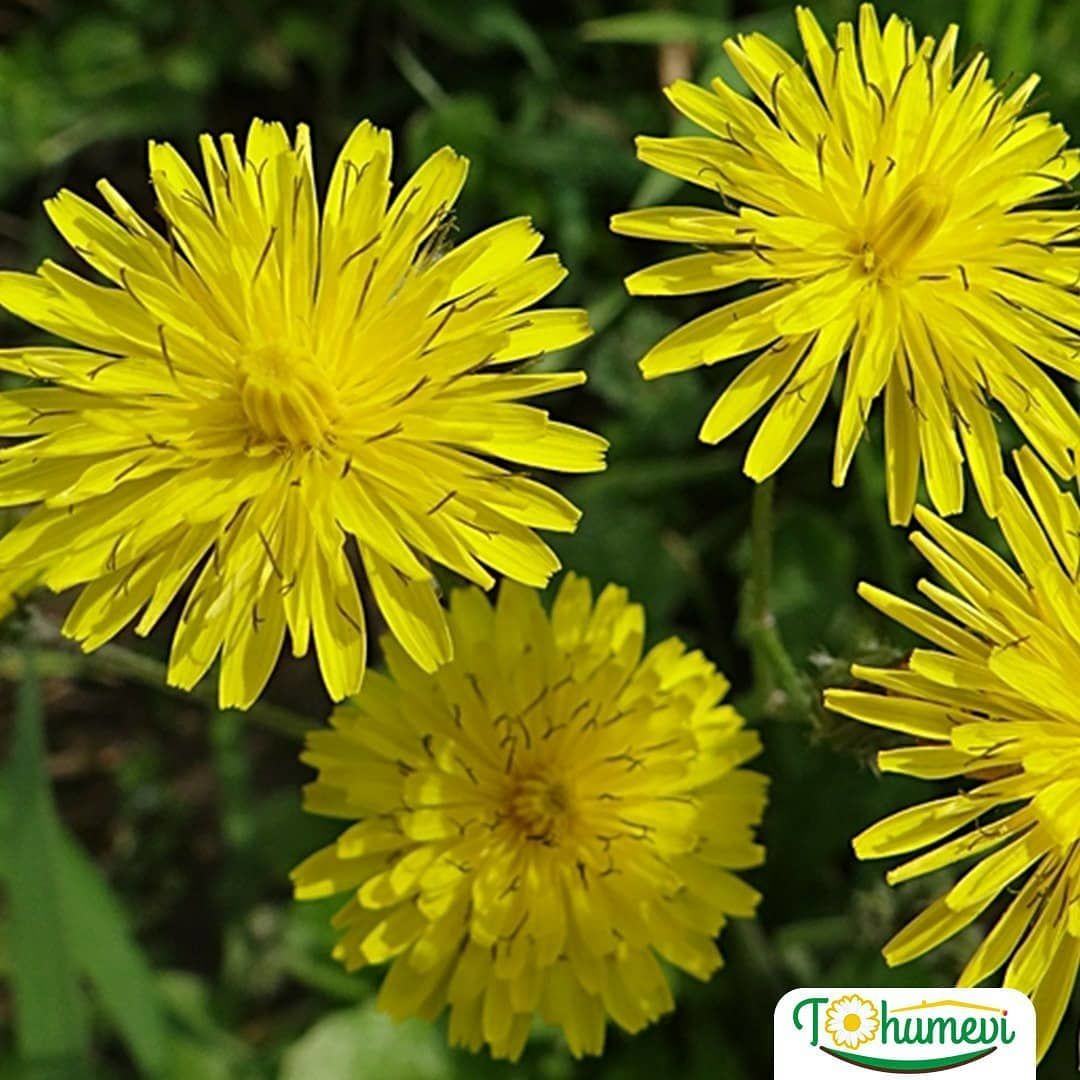begonvil: (3, 113, 610, 684), (593, 0, 1080, 494), (296, 598, 784, 1078)
